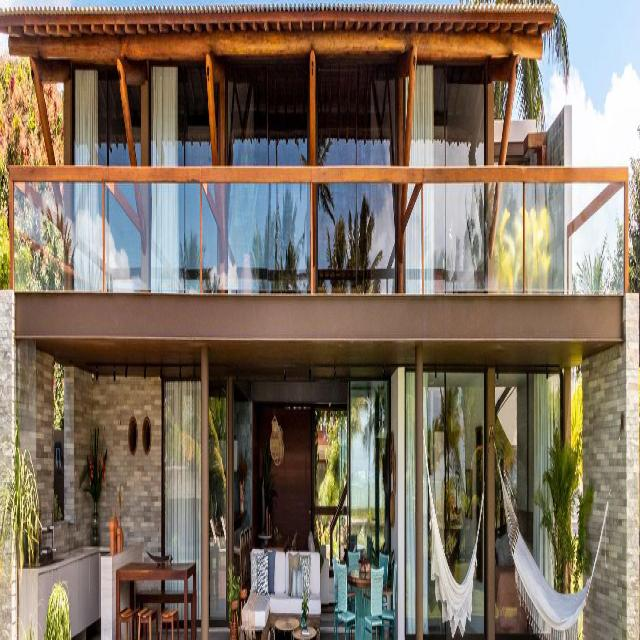Railing: (7, 162, 631, 288)
door: (310, 372, 392, 576), (161, 376, 225, 601)
plant: (530, 424, 593, 587), (1, 453, 42, 558), (47, 578, 70, 639)
wall: (0, 0, 640, 636)
windows: (405, 367, 484, 629), (310, 372, 392, 576), (405, 58, 485, 166), (224, 69, 309, 167), (314, 68, 396, 160), (152, 63, 218, 167), (77, 58, 141, 163)
